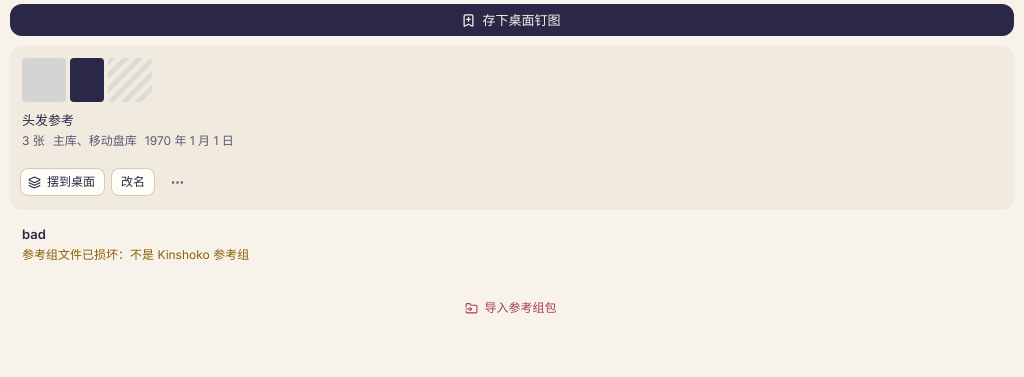
Test: 参考组面板 › 把桌面钉图存成新参考组：先起名，空名不能保存
Click the button "存下桌面钉图" at coordinates (512, 20), box [10,4,1014,36]
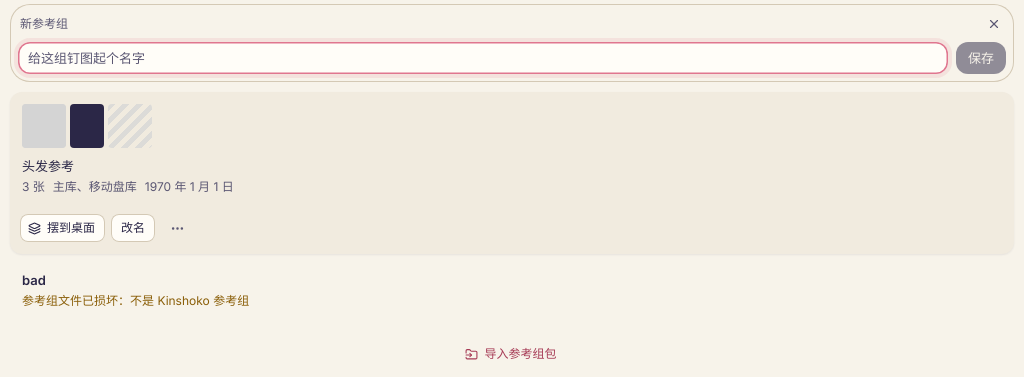
Check: the button "保存" is disabled, box [956,42,1006,74]
Type "手部" into the field named "新参考组名称" at coordinates (483, 58), box [18,42,948,74]
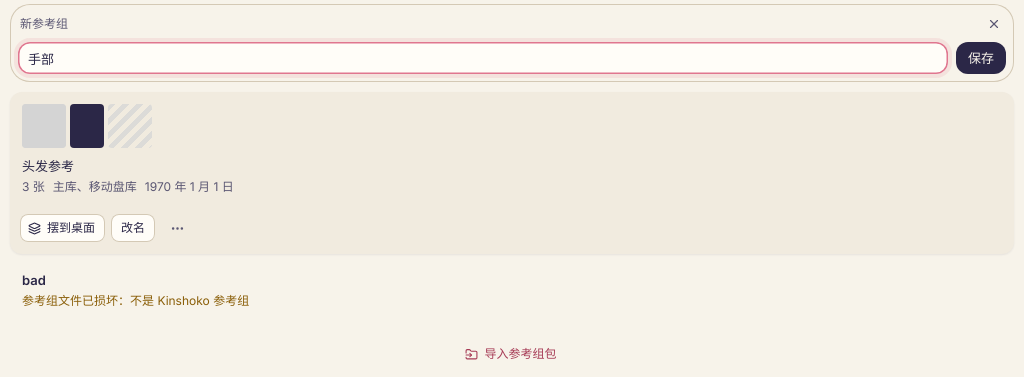
Click the button "保存" at coordinates (981, 58), box [956,42,1006,74]
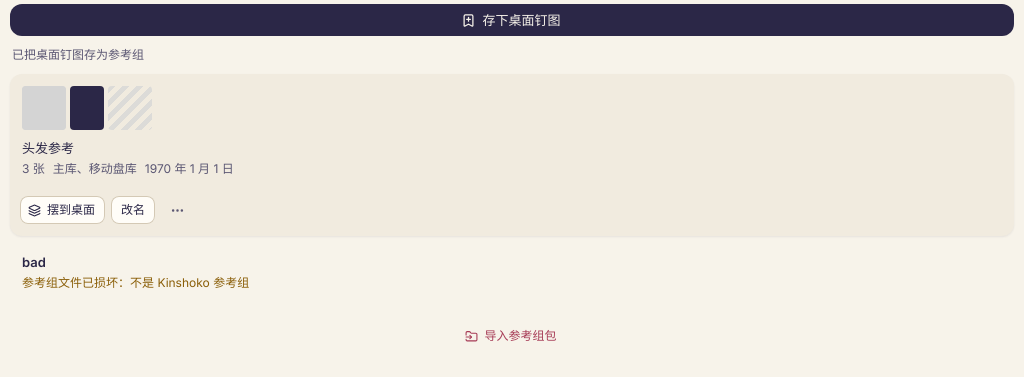
Check: the message reads "已把桌面钉图存为参考组", box [12,47,144,62]
